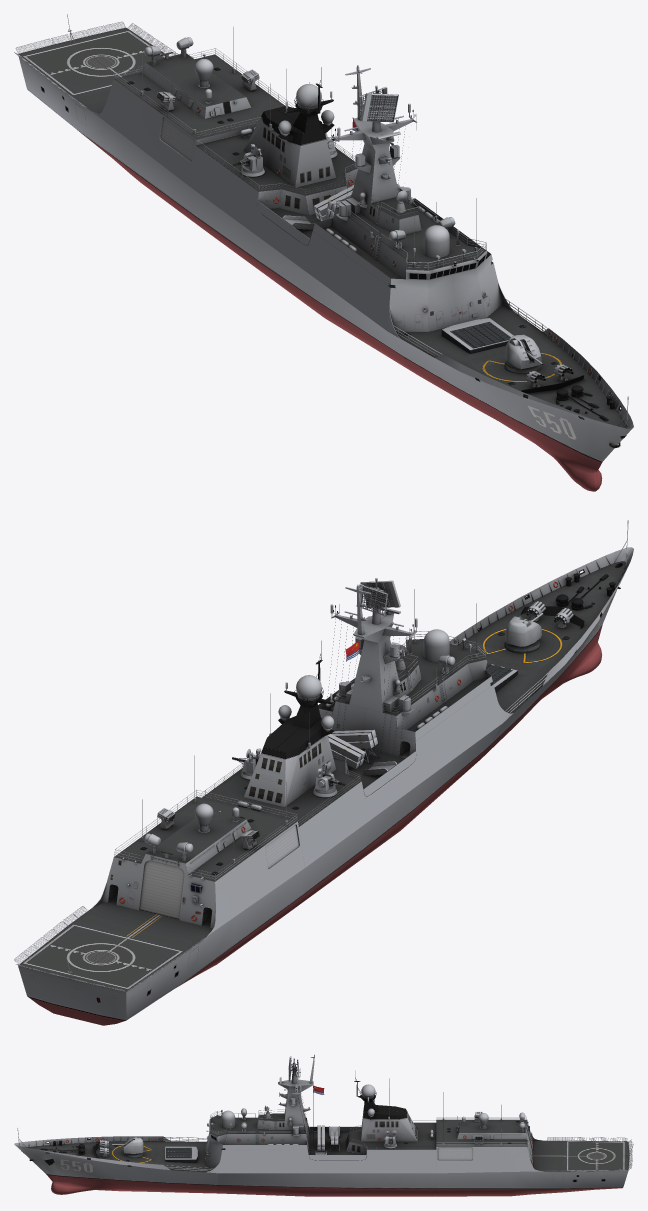
File: 054Bhuweijian.glb
3 renders of one model, top to bottom at view 1: azimuth 30°, elevation 25°; view 2: azimuth 150°, elevation 25°; view 3: azimuth 270°, elevation 25°, orthographic. The views are drawn at different scales.
Parts seen in each view (by area): view 1: JCLHJ_HWJ054; view 2: JCLHJ_HWJ054; view 3: JCLHJ_HWJ054.
Boxes of the visible parts, left/top/right/bottom form: JCLHJ_HWJ054: left=14, top=14, right=633, bottom=491; JCLHJ_HWJ054: left=14, top=520, right=633, bottom=1025; JCLHJ_HWJ054: left=14, top=1054, right=633, bottom=1196.
Bounding box in the file's own units: 17.43 × 33.79 × 136.
Materials: 4 (4 with a texture image).
